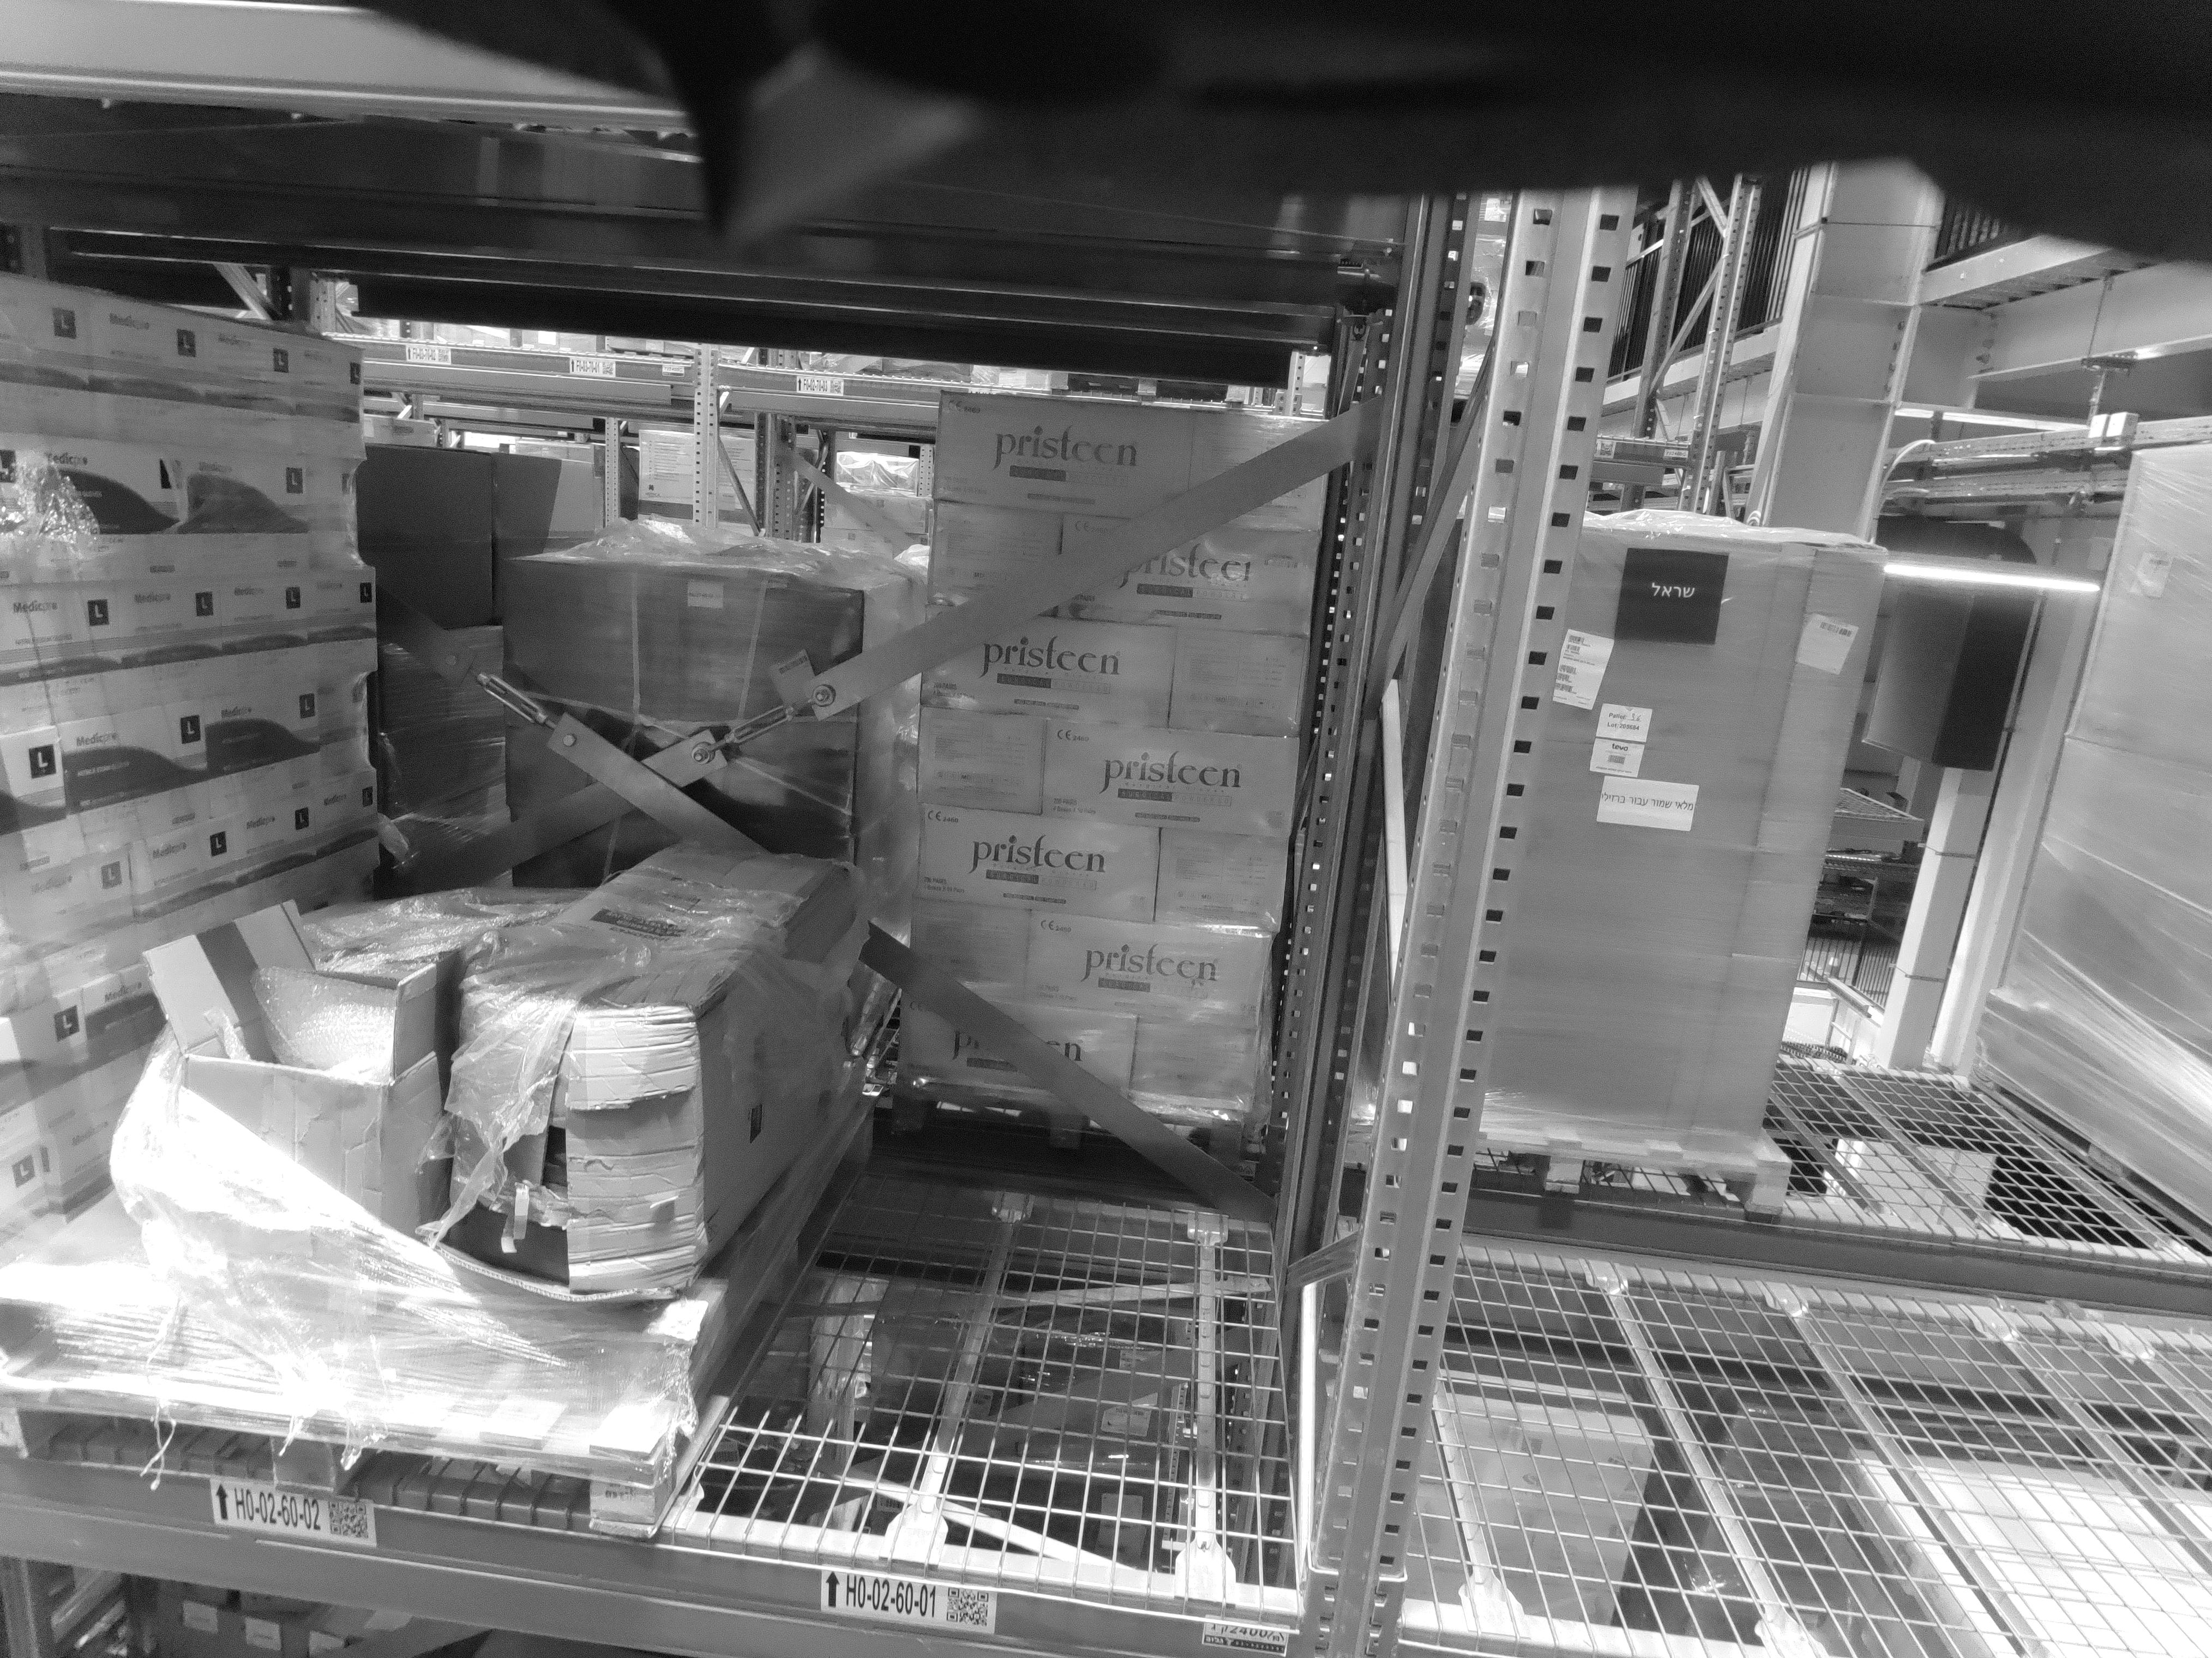empty-shelf: (944, 293, 1211, 1536), (2001, 336, 2212, 1567), (1641, 329, 1827, 1562)
